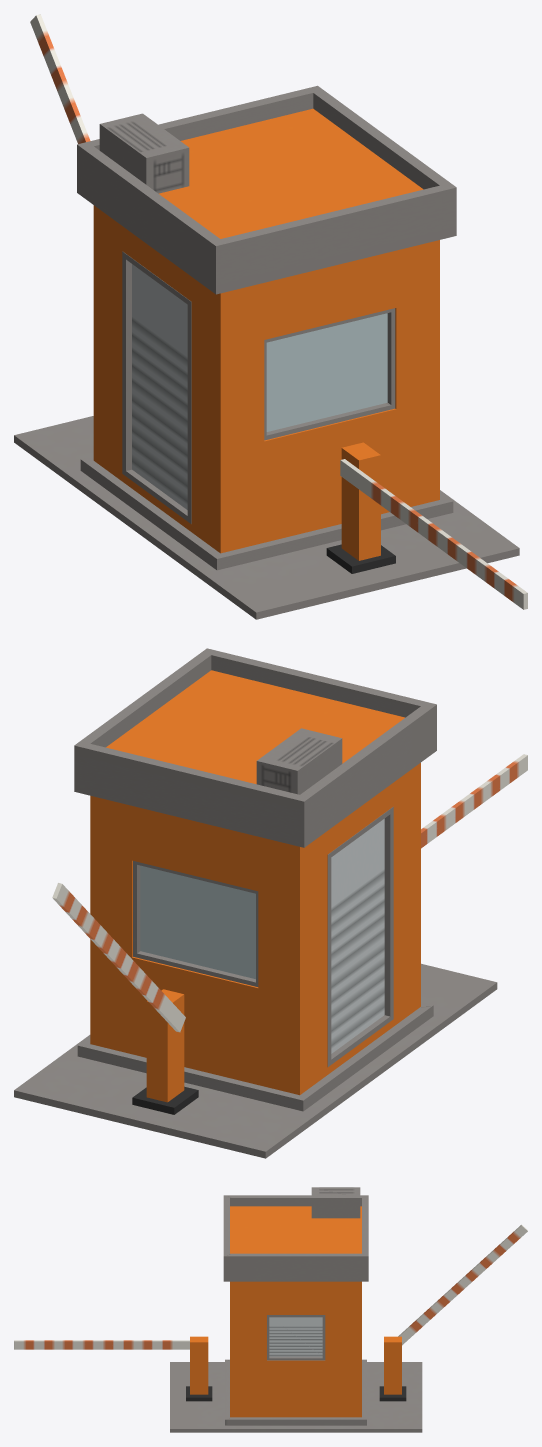
The model's file is parking.fbx.
3 views of the same model, one above another, from view 1: azimuth 30°, elevation 25°; view 2: azimuth 150°, elevation 25°; view 3: azimuth 270°, elevation 25° (orthographic). The views are drawn at different scales.
Visible parts, largest first — view 1: sptp_building_34; view 2: sptp_building_34; view 3: sptp_building_34.
Boxes of the visible parts, bbox=[...] form: sptp_building_34: bbox=[14, 14, 527, 619]; sptp_building_34: bbox=[14, 648, 527, 1158]; sptp_building_34: bbox=[14, 1187, 527, 1432].
Bounding box in the file's own units: 240 × 310 × 779.
1 material, 1 textured.
